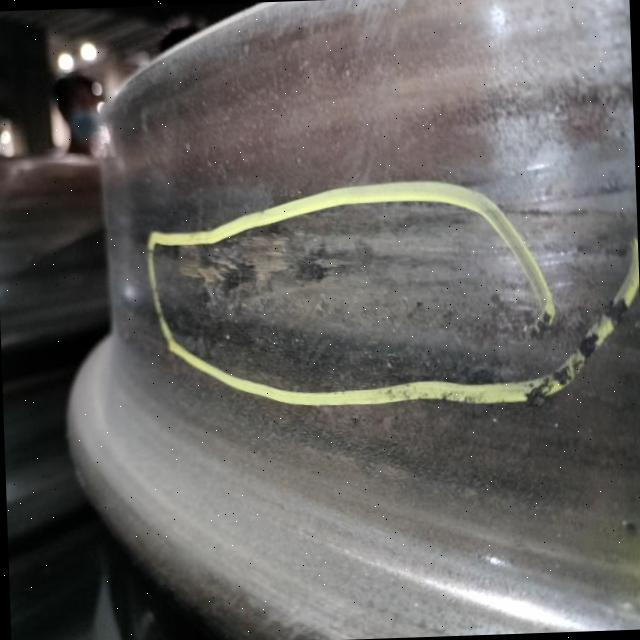flat: (172, 222, 524, 353)
